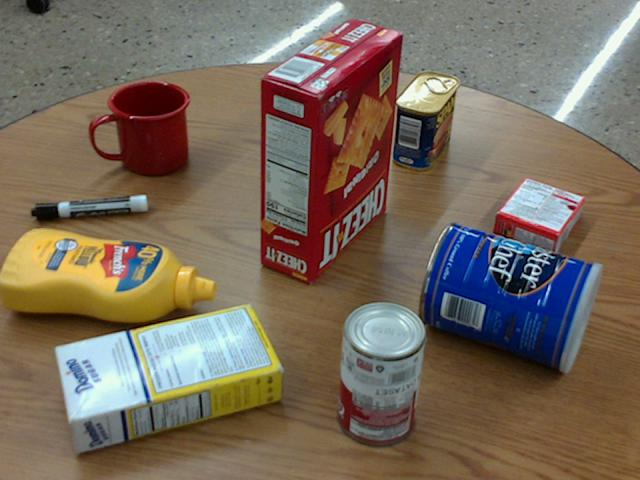cracker_box: (259, 17, 402, 282)
gelatin_box: (493, 176, 584, 252)
large_marker: (32, 194, 147, 220)
master_chef_can: (420, 220, 604, 371)
mug: (92, 82, 189, 176)
mustard_bottle: (0, 227, 215, 323)
potted_meat_can: (394, 70, 459, 170)
sugar_box: (51, 303, 280, 451)
tomato_soup_can: (340, 299, 427, 444)
tuna_fish_can: (266, 72, 328, 146)
